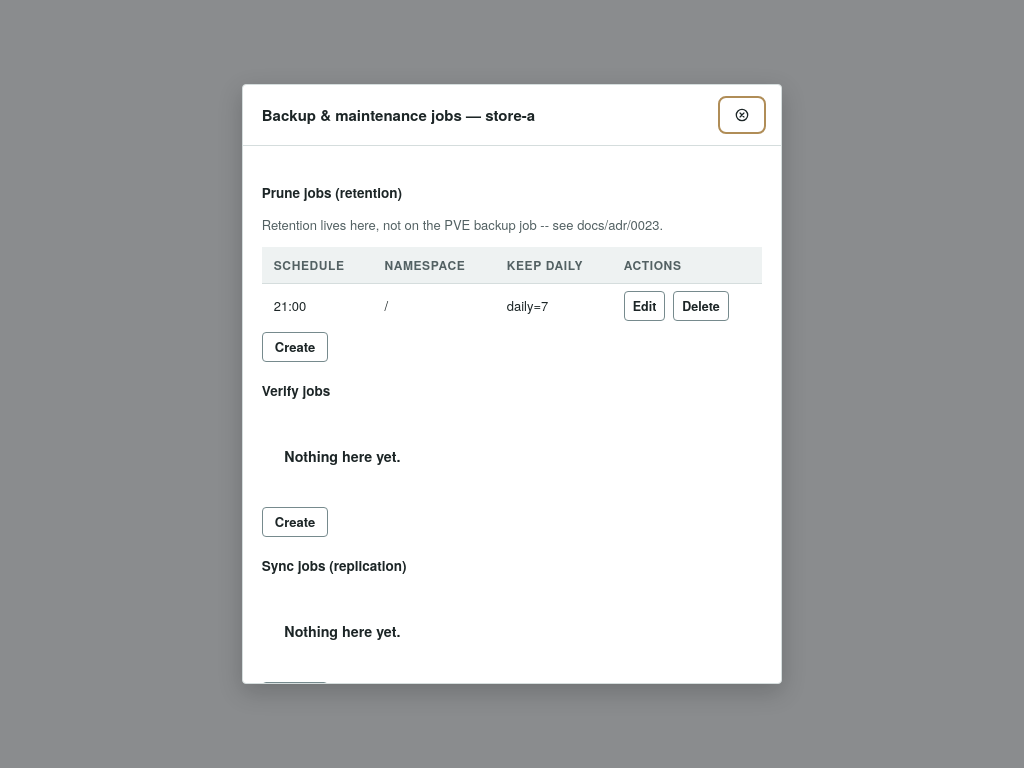
Test: DatastoreJobsModal › shows a prune-job delete error inside the modal
This screenshot has width=1024, height=768.
Expected: the text "21:00" is shown, [262,284,372,328]
What coordinates should you click on to do the following:
click the button "Delete"
I would click on:
 (701, 306)
Its box is [673,291,729,321].
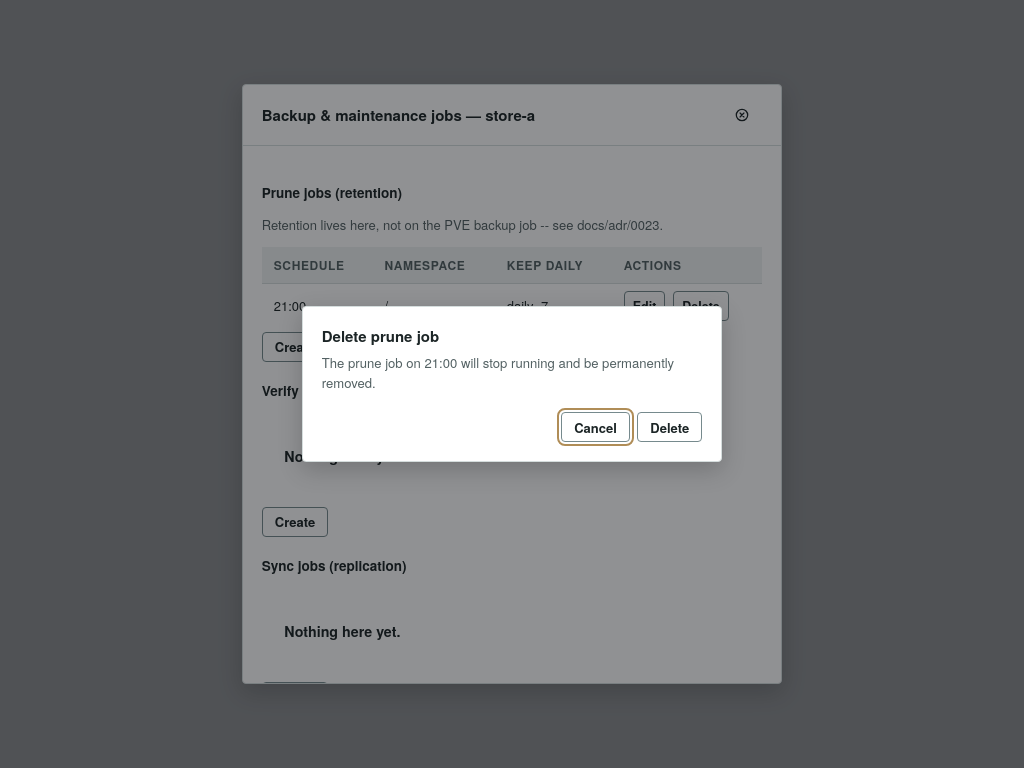
What coordinates should you click on to do the following:
click the button "Delete"
I would click on:
 (670, 427)
Its box is [637,412,702,442].
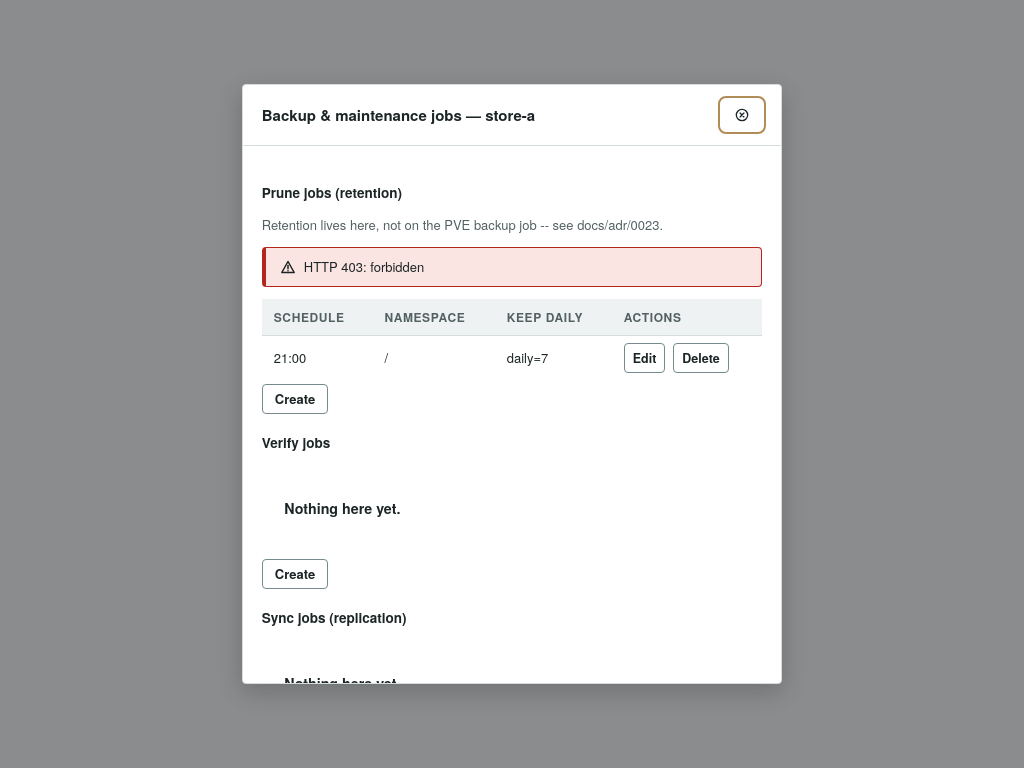
Result: the message reads "HTTP 403: forbidden" at [304,257,424,276]
